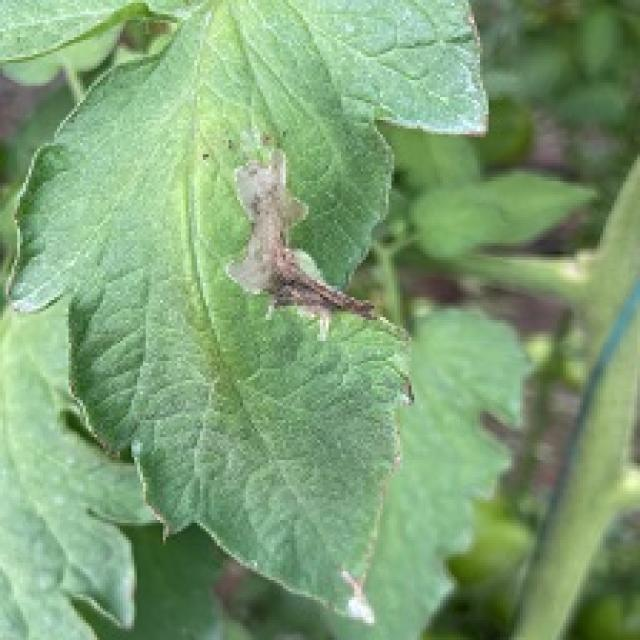Tuta absoluta: (186, 142, 375, 367)
